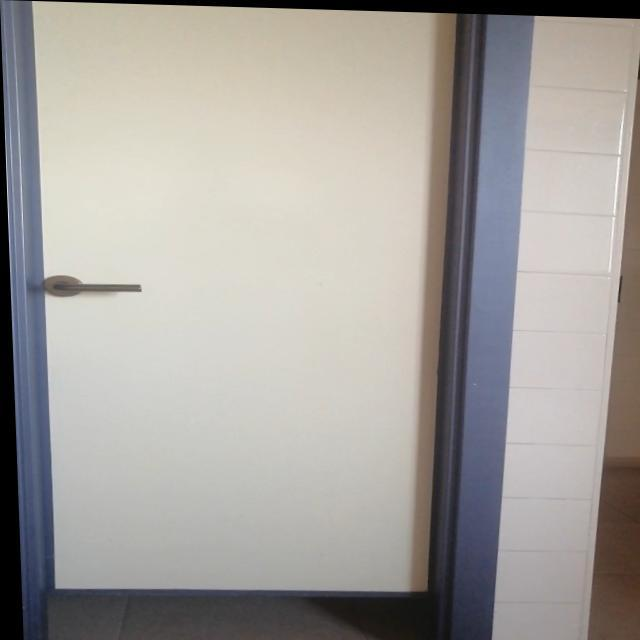door_handle: (44, 280, 144, 294)
